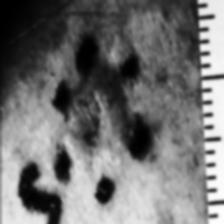Potentially Malignant Skin Tumors: (55, 60, 139, 188)
